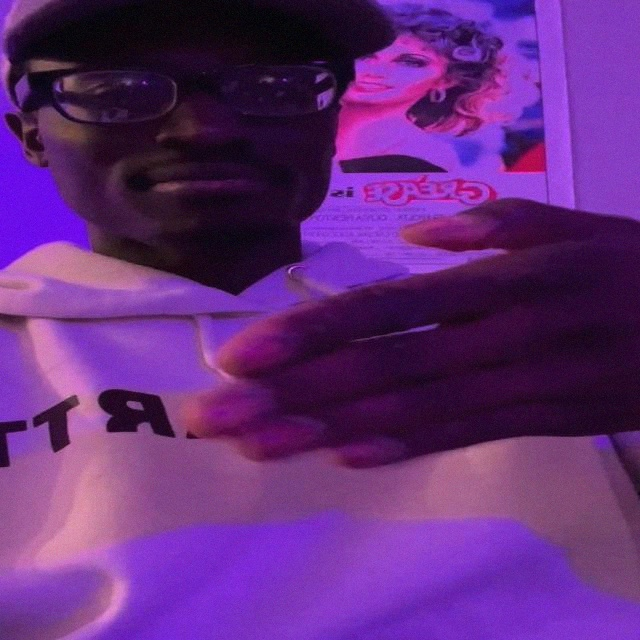Paper: (190, 194, 640, 473)
